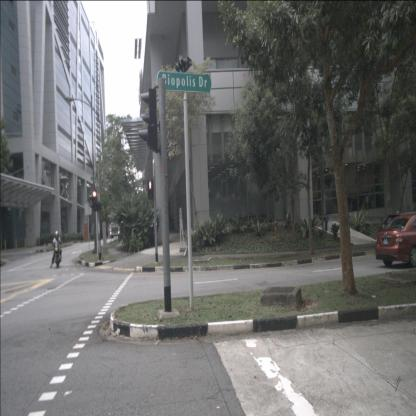human-pedestrian-adult: (319, 214, 329, 233)
vehicle-car: (375, 213, 415, 269)
vehicle-motorcycle: (50, 230, 62, 268)
vehicle-truck: (109, 214, 131, 238)
